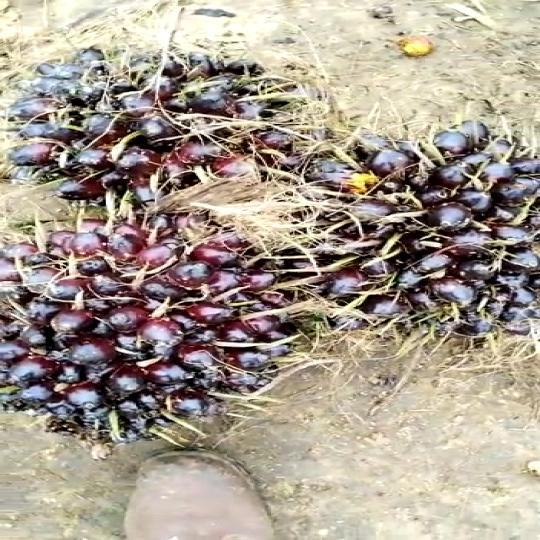mentah: (0, 203, 301, 444), (260, 116, 540, 341), (4, 43, 307, 218)
